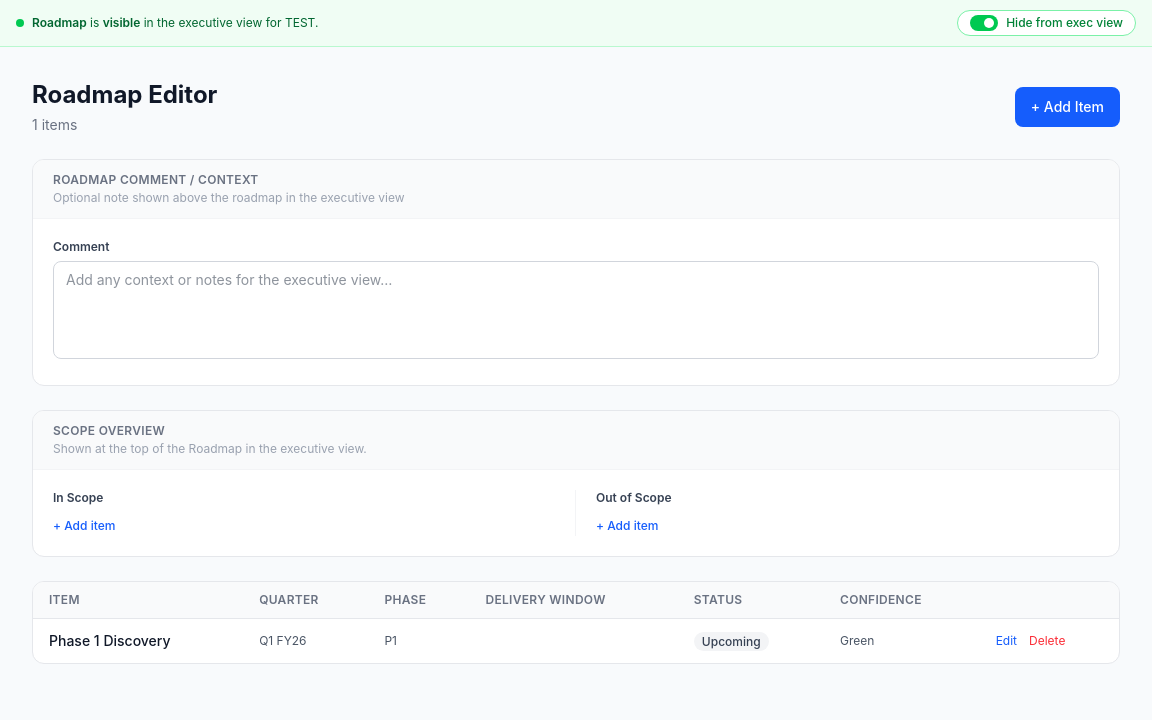
Test: RoadmapEditor › T-33.06: Edit button opens modal pre-populated with item title
Check: the text "Phase 1 Discovery" is shown, box [33, 618, 243, 663]
What coordinates should you click on to do the following:
click the button "Edit"
I would click on:
 (1006, 641)
Its box is [996, 633, 1017, 649].
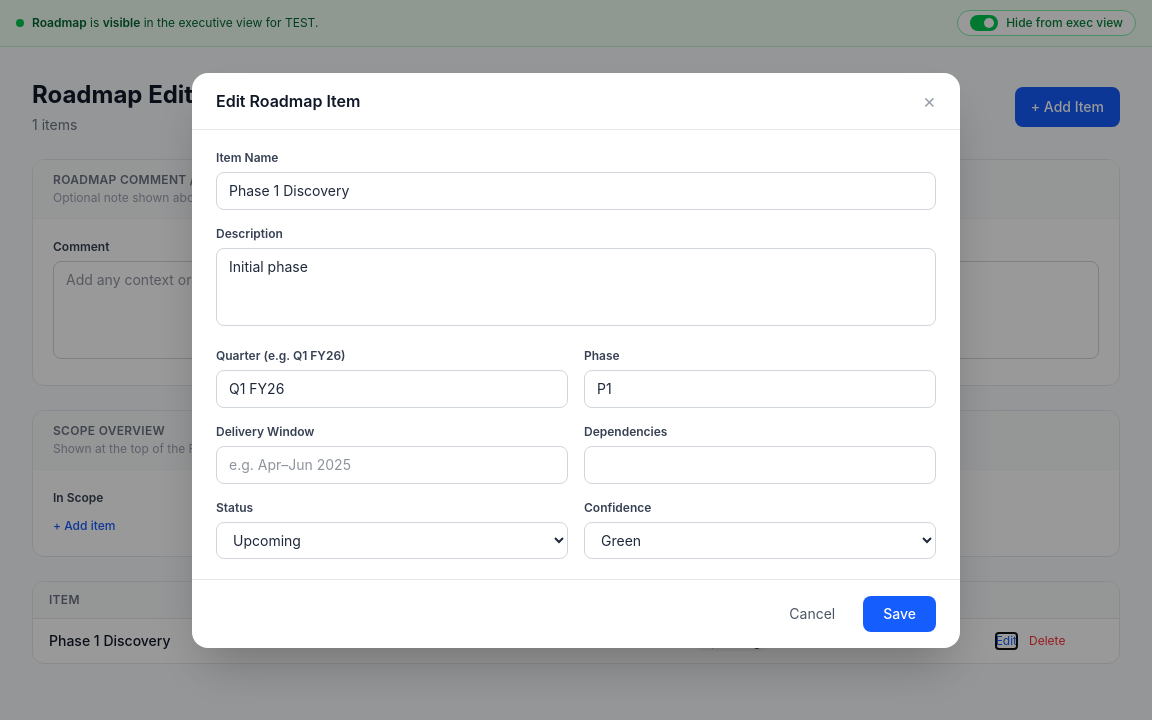
Check: the heading "Edit Roadmap Item" is shown, box [216, 88, 360, 112]
